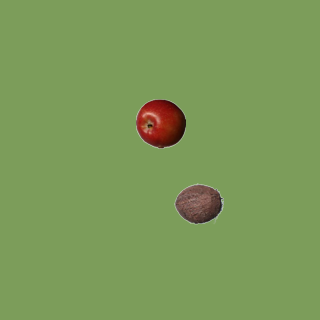Apple Braeburn: (135, 98, 185, 148)
Cocos: (173, 178, 223, 228)
